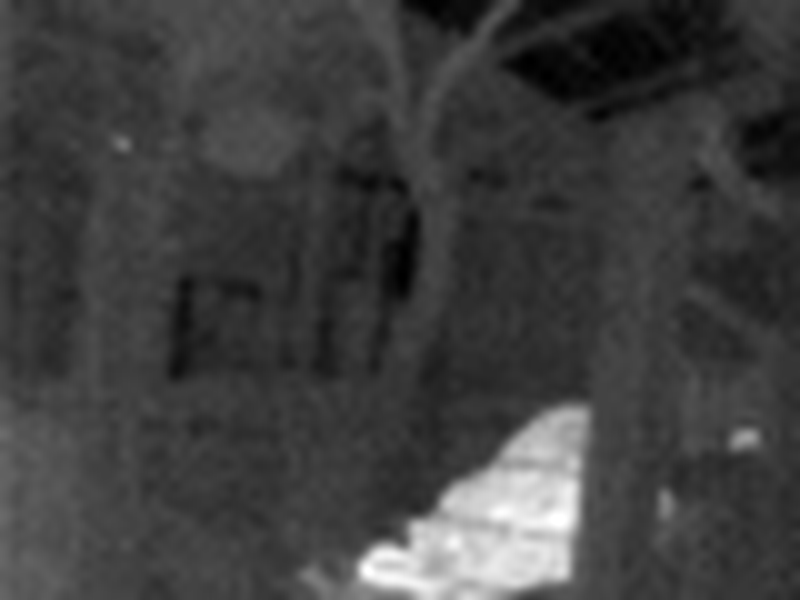elephant: (299, 402, 694, 600)
